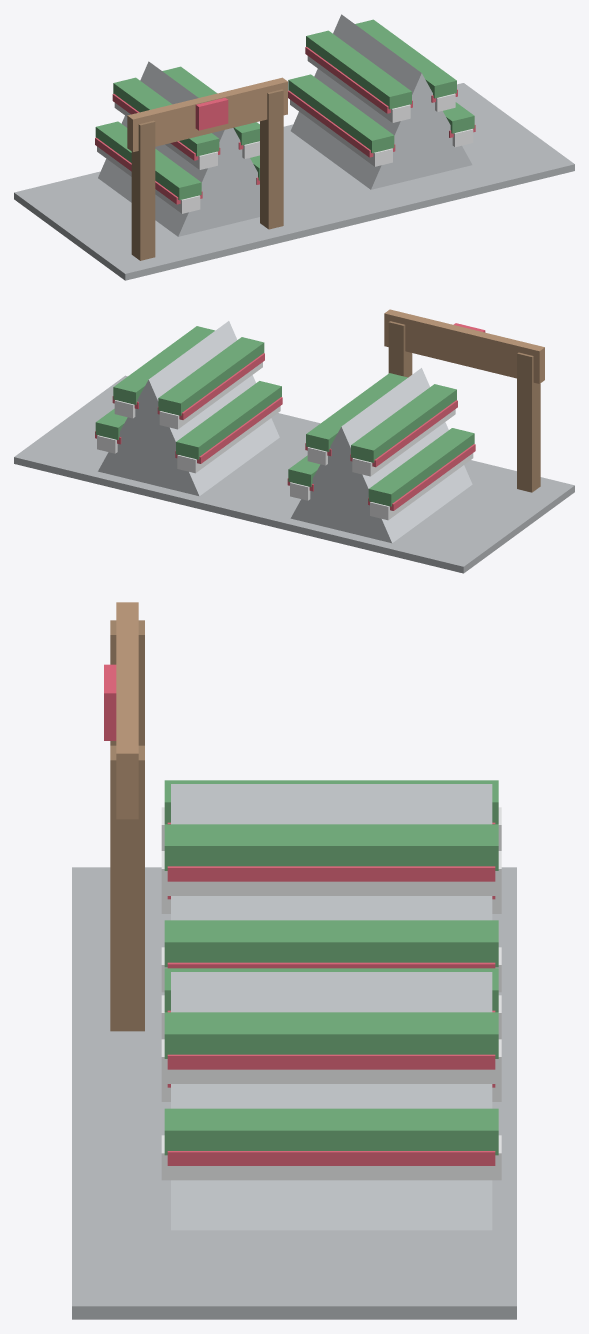
The model's file is prop_14_dalat_strawberry_hydroponic_a_frame_and_sign.glb.
3 views of the same model, one above another, from view 1: azimuth 30°, elevation 25°; view 2: azimuth 150°, elevation 25°; view 3: azimuth 270°, elevation 25° (orthographic). The views are drawn at different scales.
Parts seen in each view (by area): view 1: prop_14_dalat_strawberry_hydroponic_a_frame_and_sign; view 2: prop_14_dalat_strawberry_hydroponic_a_frame_and_sign; view 3: prop_14_dalat_strawberry_hydroponic_a_frame_and_sign.
Part boxes in pixels (x1,y1,x2,y2): prop_14_dalat_strawberry_hydroponic_a_frame_and_sign: (14, 14, 574, 280); prop_14_dalat_strawberry_hydroponic_a_frame_and_sign: (14, 309, 574, 573); prop_14_dalat_strawberry_hydroponic_a_frame_and_sign: (72, 602, 516, 1319).
Bounding box in the file's own units: 8.4 × 2.65 × 3.6.
